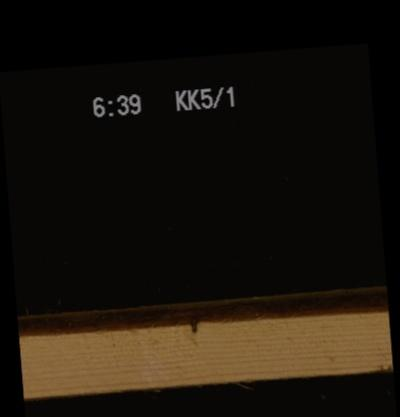wave: (17, 296, 387, 326)
